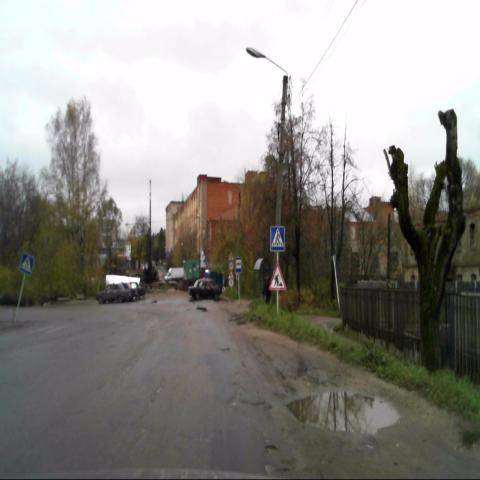1_25: (268, 263, 286, 290)
5_16: (235, 257, 242, 273)
5_19_1: (19, 251, 35, 275), (270, 225, 284, 250)
